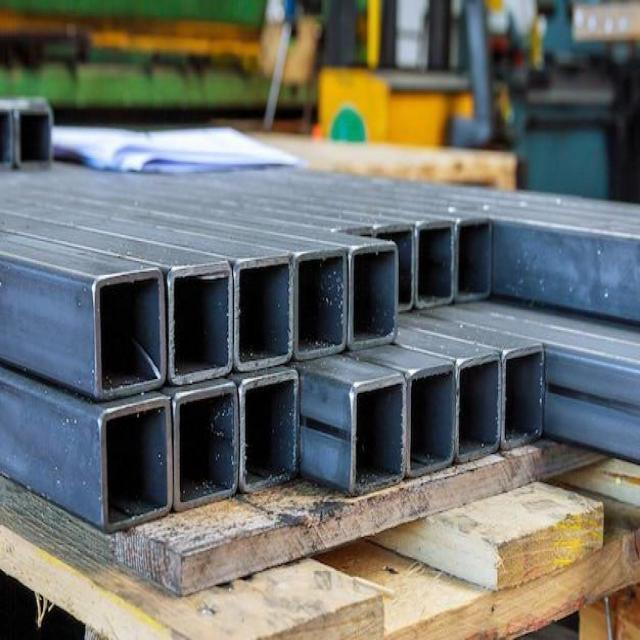pipe: (94, 392, 177, 537), (91, 266, 169, 403), (172, 379, 242, 514), (168, 255, 238, 387), (239, 369, 304, 499), (232, 247, 296, 375), (348, 370, 408, 501), (291, 242, 352, 365), (406, 358, 458, 483), (346, 239, 402, 351), (456, 349, 505, 466), (500, 341, 551, 453), (413, 218, 457, 312), (453, 210, 495, 307)
